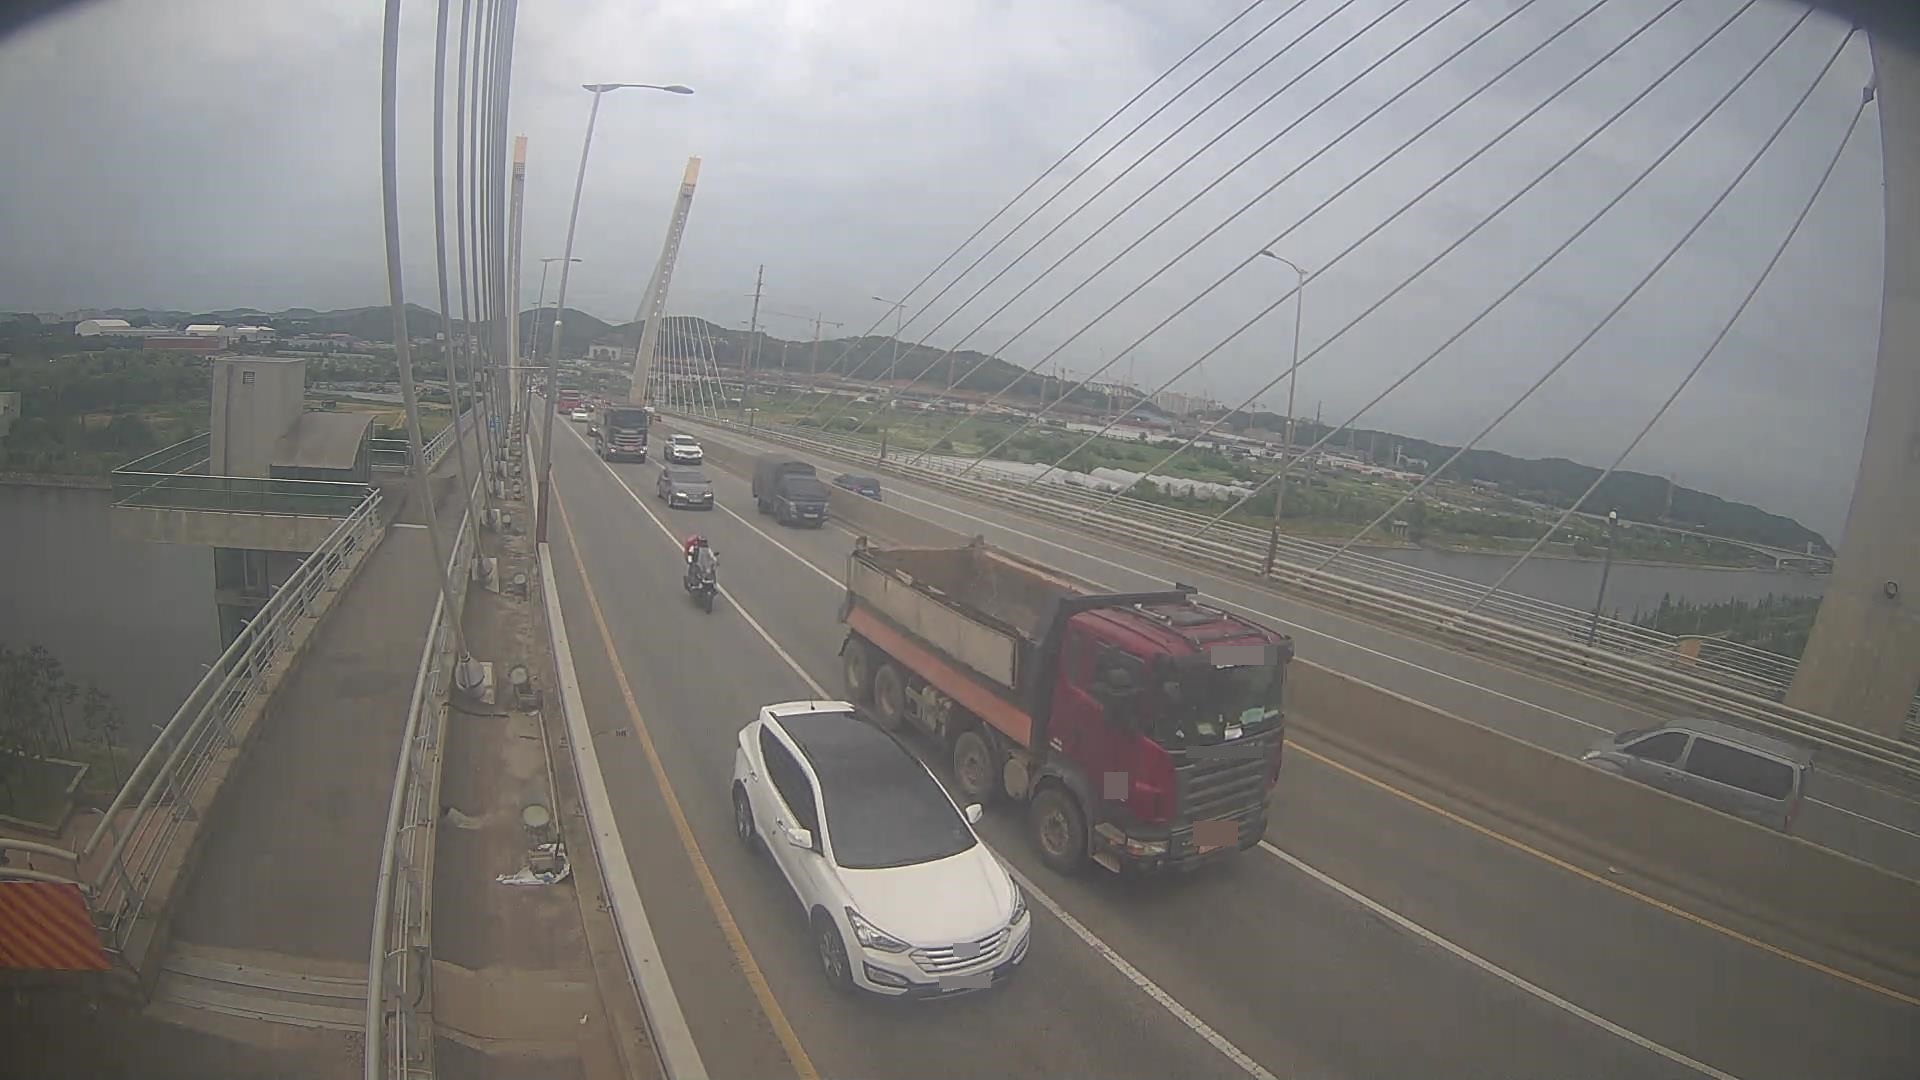정상차량: (836, 535, 1294, 878)
